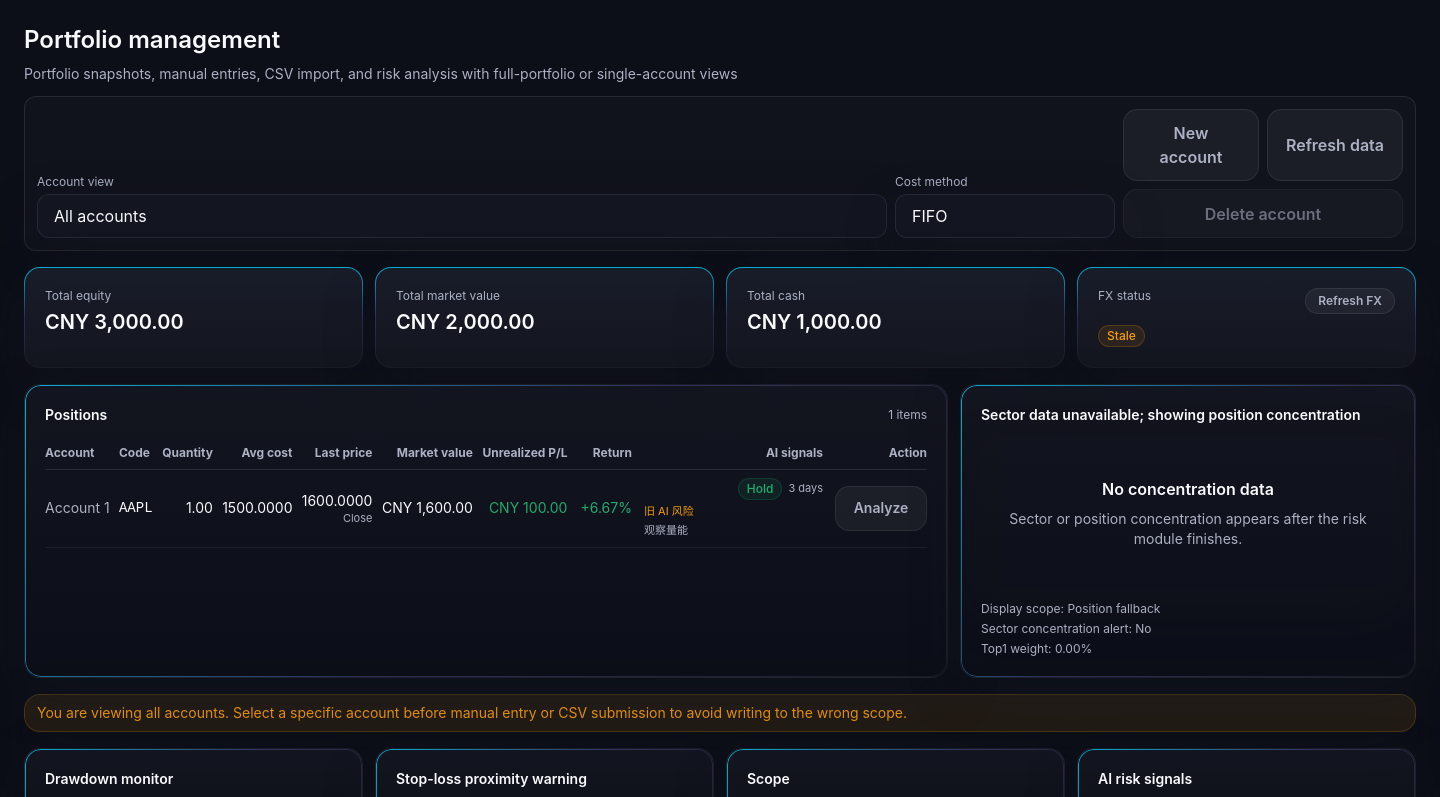
PortfolioPage FX refresh › refreshes holding signals when manually refreshing unchanged portfolio data
Check: the text "旧 AI 风险" is shown, box [644, 504, 694, 518]
Click the button "Refresh data" at (1335, 145), box [1267, 109, 1403, 181]
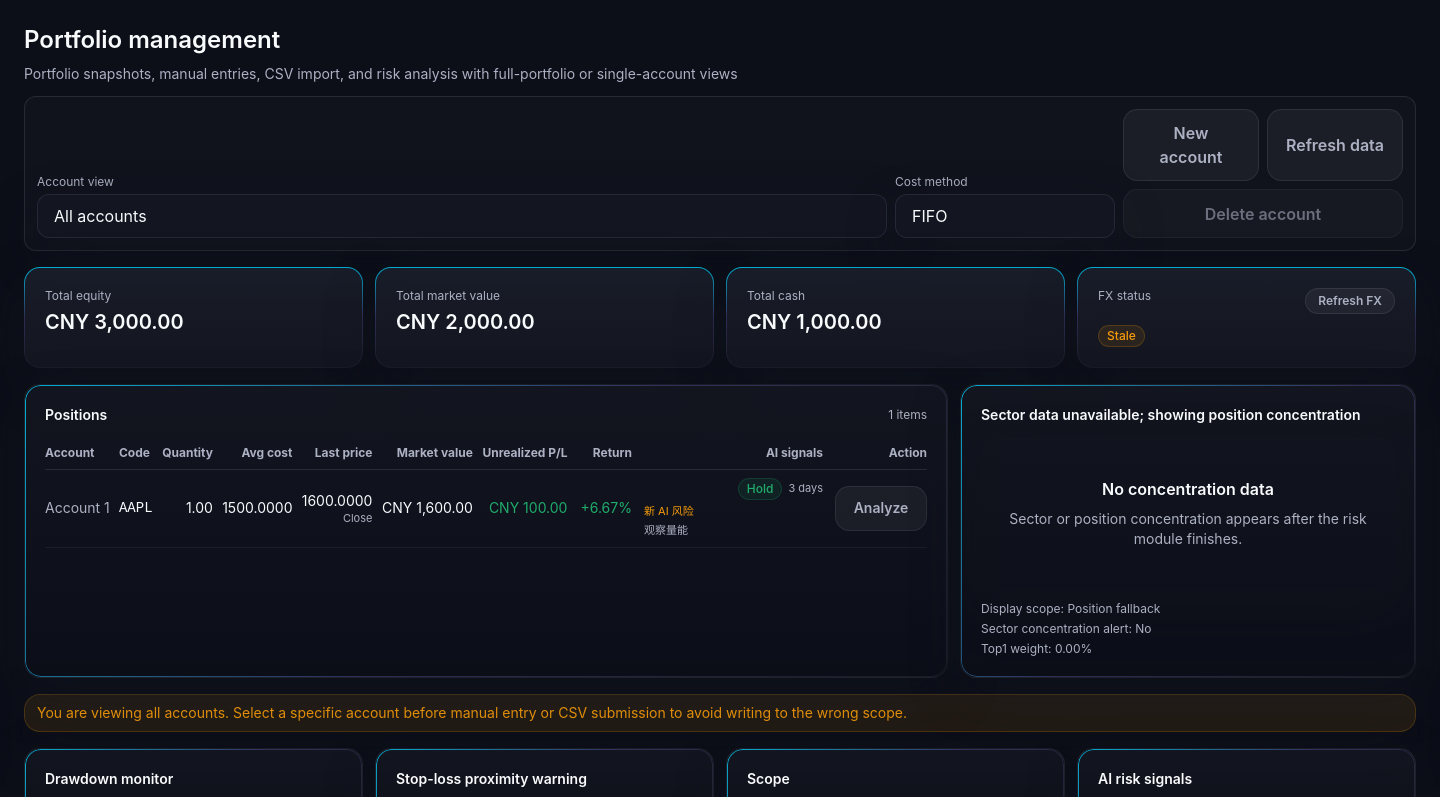
Check: the text "新 AI 风险" is shown, box [644, 504, 694, 518]
Check: the text "旧 AI 风险" is gone
